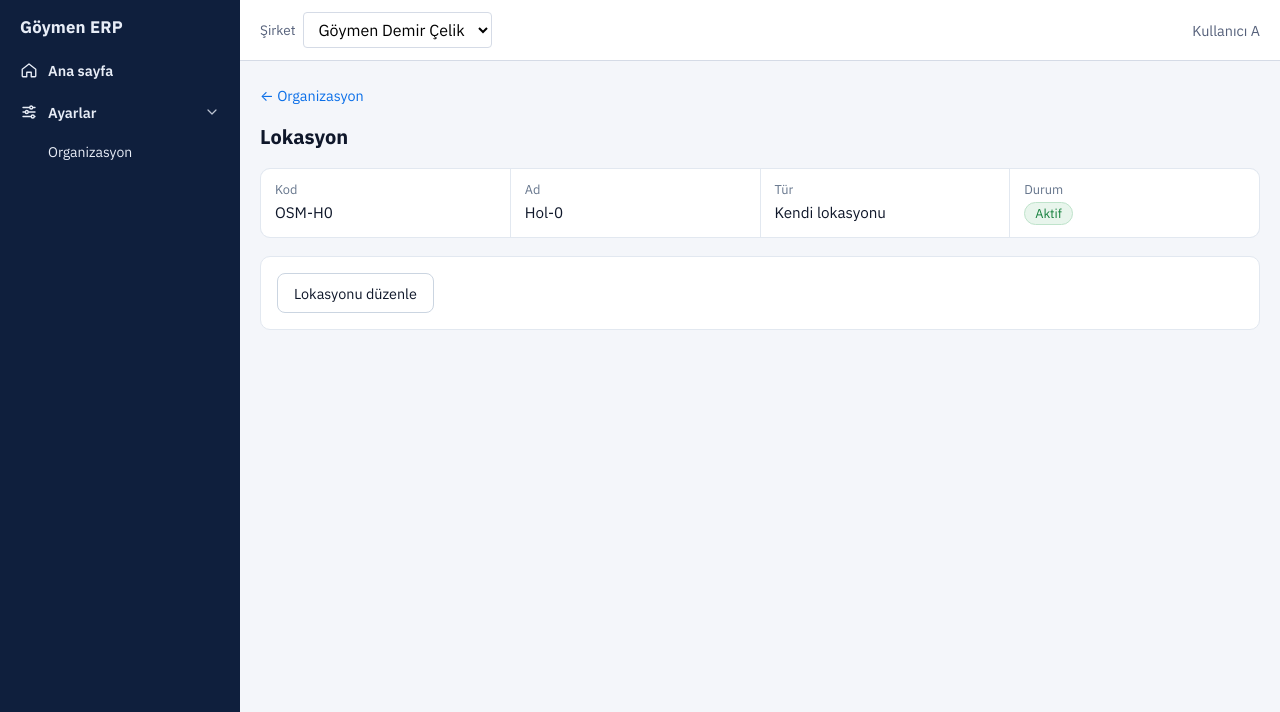
location edit (ORG-02) › shows a stale version as its own refusal and keeps what was typed
Click the button "Lokasyonu düzenle" at (355, 293), box x1=277 y1=273 x2=434 y2=313
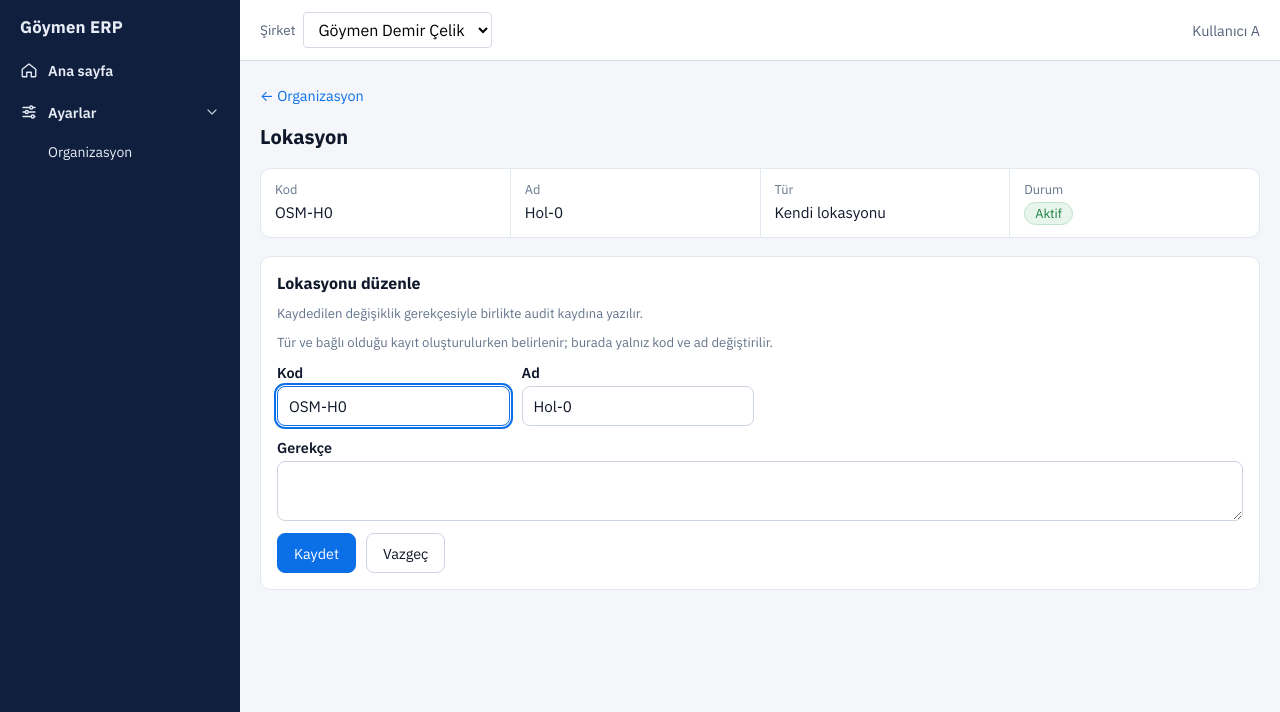
Replace the text in the field labelled "Ad" with "Hol-0 Boya" at (638, 406), box x1=522 y1=386 x2=754 y2=426
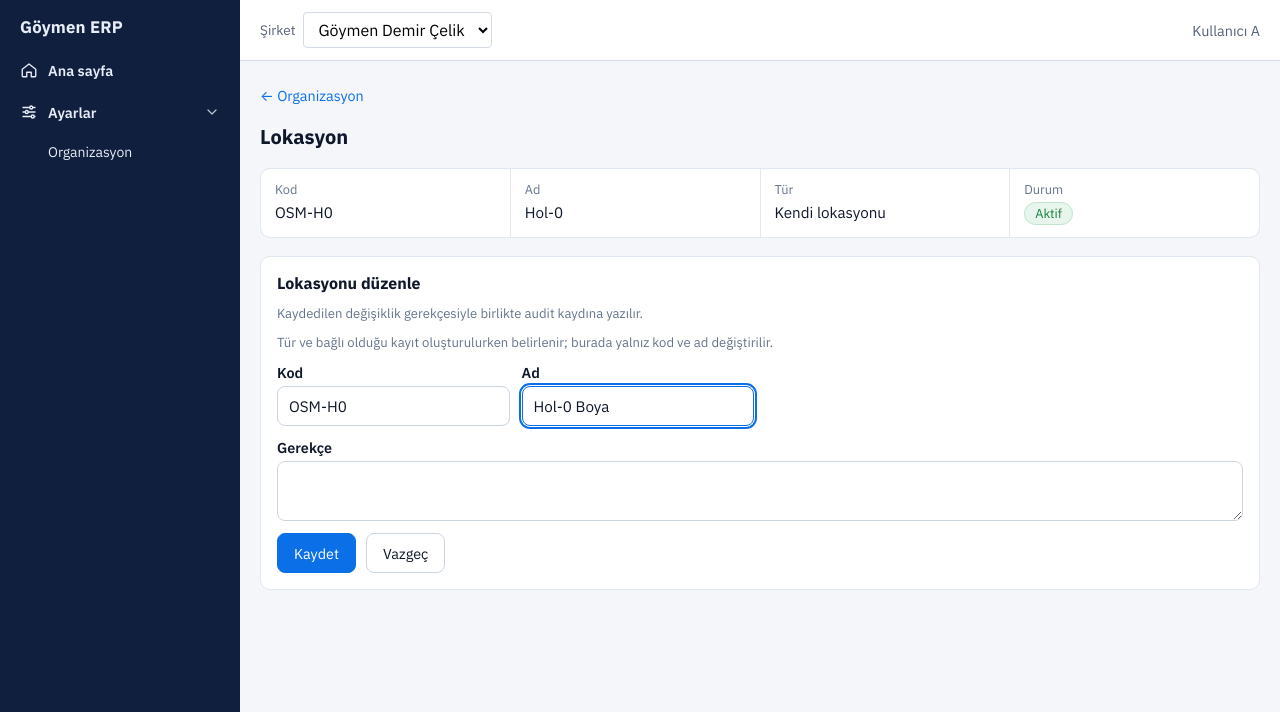
Type "Ad netleştirildi" into the text box labelled "Gerekçe" at (760, 491), box x1=277 y1=461 x2=1243 y2=521
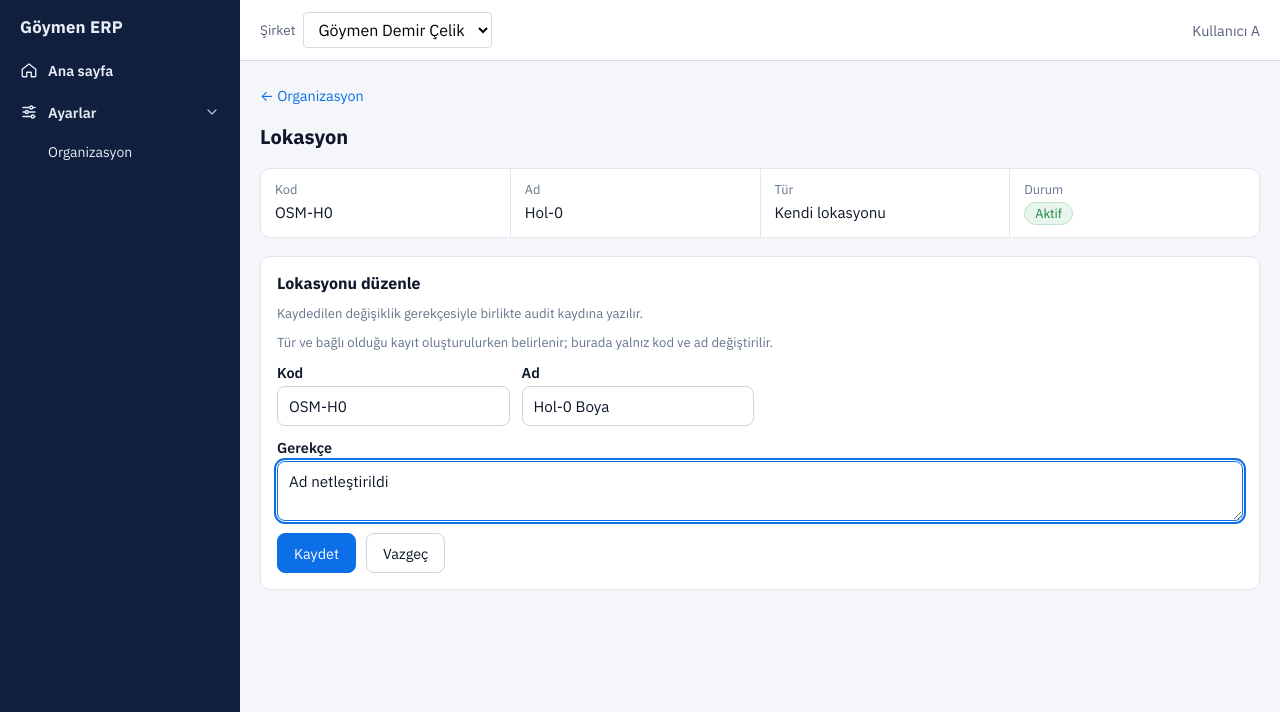
Click the button "Kaydet" at (316, 553), box x1=277 y1=533 x2=356 y2=573
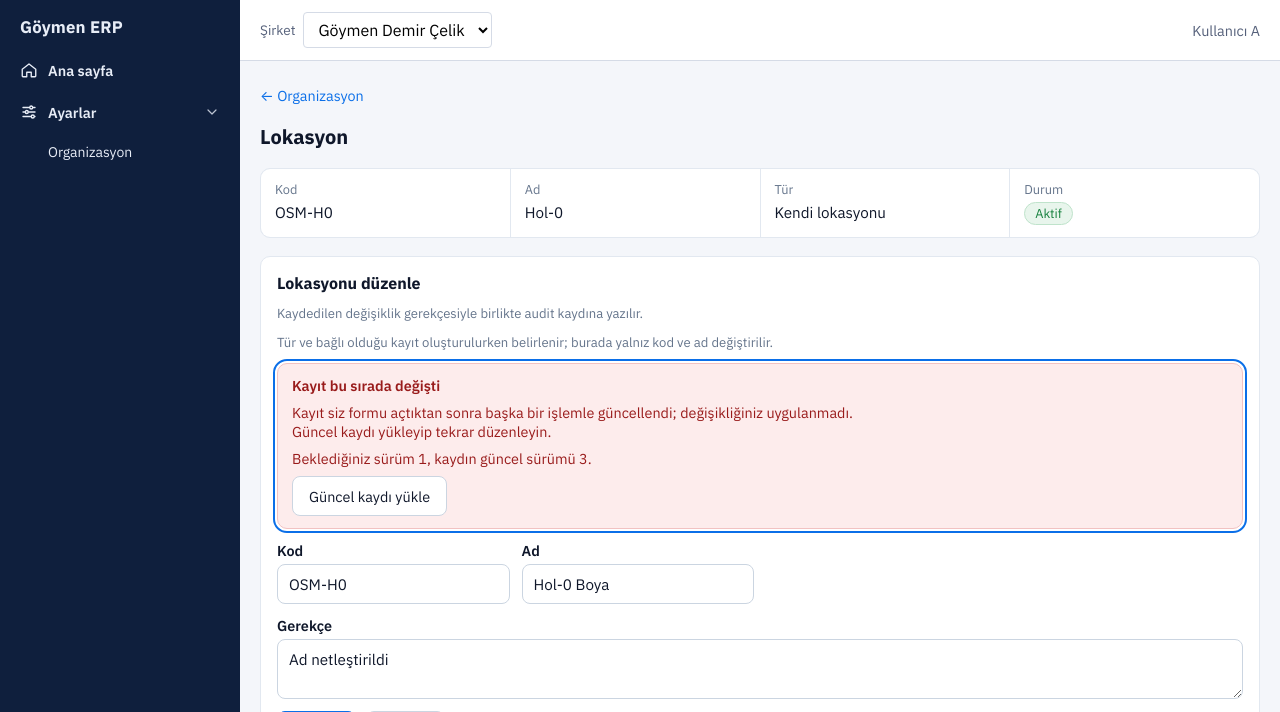
Now the text "Kayıt bu sırada değişti" is shown, box x1=292 y1=376 x2=440 y2=395
Now the text "Beklediğiniz sürüm 1, kaydın güncel sürümü 3." is shown, box x1=292 y1=449 x2=592 y2=468
